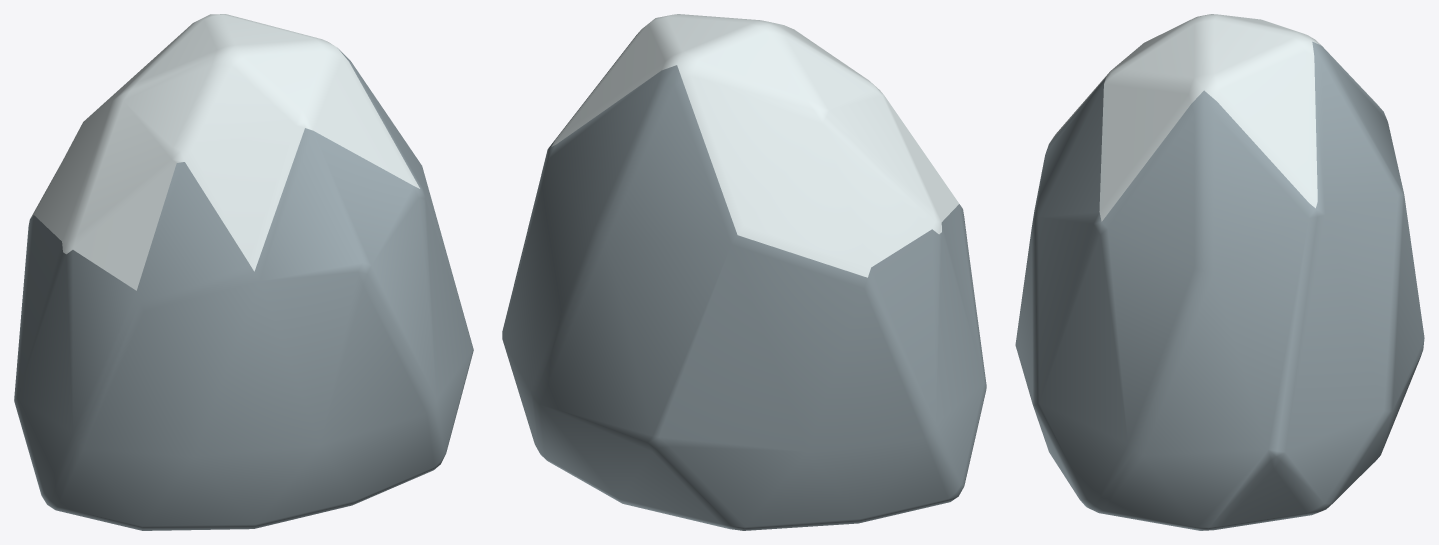
Rendered from snow_rock_tall.glb.
The picture shows the model from 3 angles, left to right: view 1: azimuth 30°, elevation 25°; view 2: azimuth 150°, elevation 25°; view 3: azimuth 270°, elevation 25°; orthographic projection. The views are drawn at different scales.
Parts seen in each view (by area): view 1: Stone; view 2: Stone; view 3: Stone.
Part boxes in pixels (x1=…): Stone: x1=14, y1=14, x2=473, y2=530; Stone: x1=502, y1=14, x2=986, y2=530; Stone: x1=1015, y1=14, x2=1424, y2=530.
Size of the model in its own units: 2.74 by 2.67 by 2.34.
